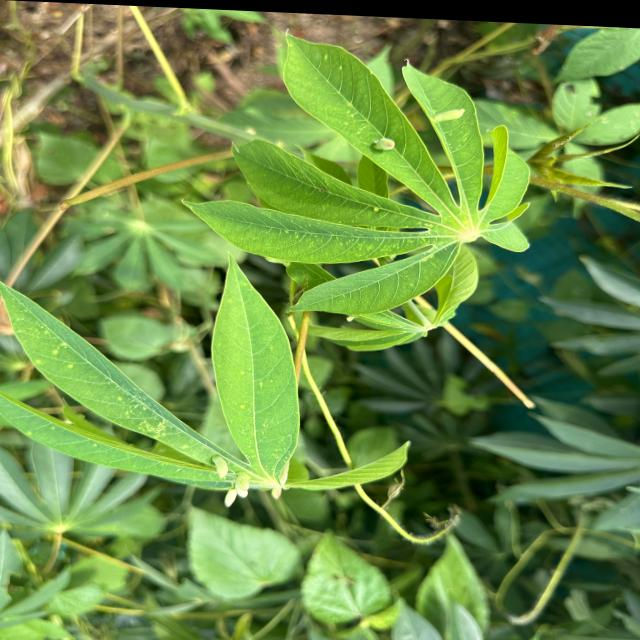Mosca: (210, 446, 260, 514), (361, 122, 404, 163), (423, 89, 468, 127), (262, 461, 288, 514)
